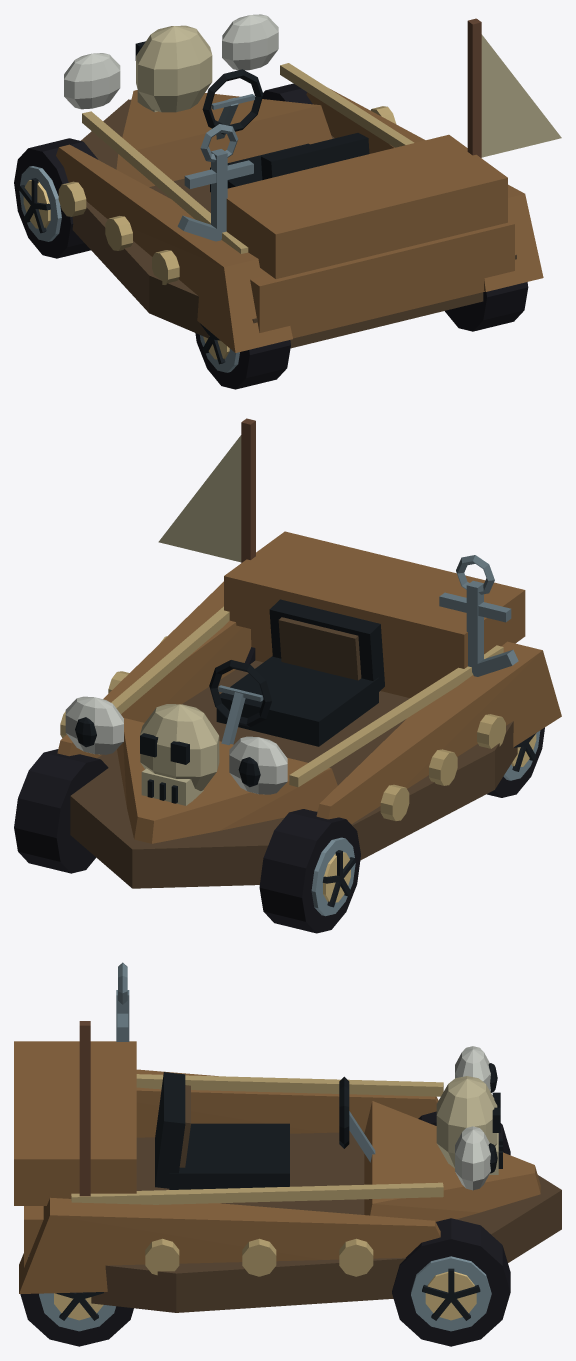
File: kart.glb
3 renders of one model, top to bottom at view 1: azimuth 30°, elevation 25°; view 2: azimuth 150°, elevation 25°; view 3: azimuth 270°, elevation 25°, orthographic. The views are drawn at different scales.
Visible parts, largest first — view 1: identity-ship-ship-pointed-bow-and-raised-stern, identity-ship-motif-sail, identity-ship-motif-skull, wheel-front-left, identity-ship-motif-eyes, identity-ship-driver-cockpit, wheel-rear-left, identity-ship-motif-anchor, wheel-rear-right, wheel-front-right; view 2: identity-ship-ship-pointed-bow-and-raised-stern, identity-ship-driver-cockpit, wheel-front-left, identity-ship-motif-sail, wheel-front-right, identity-ship-motif-skull, identity-ship-motif-eyes, identity-ship-motif-anchor, wheel-rear-left; view 3: identity-ship-ship-pointed-bow-and-raised-stern, identity-ship-driver-cockpit, wheel-front-right, wheel-rear-right, identity-ship-motif-skull, identity-ship-motif-eyes, identity-ship-motif-sail, identity-ship-motif-anchor.
Boxes of the visible parts, left/top/right/bottom form: identity-ship-ship-pointed-bow-and-raised-stern: left=56, top=63, right=543, bottom=352; identity-ship-motif-sail: left=467, top=18, right=561, bottom=157; identity-ship-motif-skull: left=135, top=25, right=212, bottom=112; wheel-front-left: left=14, top=138, right=97, bottom=258; identity-ship-motif-eyes: left=64, top=14, right=278, bottom=109; identity-ship-driver-cockpit: left=202, top=69, right=369, bottom=192; wheel-rear-left: left=195, top=323, right=290, bottom=389; identity-ship-motif-anchor: left=177, top=124, right=253, bottom=241; wheel-rear-right: left=445, top=282, right=528, bottom=331; wheel-front-right: left=262, top=83, right=312, bottom=104; identity-ship-ship-pointed-bow-and-raised-stern: left=57, top=531, right=561, bottom=888; identity-ship-driver-cockpit: left=209, top=599, right=384, bottom=746; wheel-front-left: left=259, top=809, right=360, bottom=933; identity-ship-motif-sail: left=158, top=418, right=255, bottom=562; wheel-front-right: left=14, top=749, right=108, bottom=873; identity-ship-motif-skull: left=140, top=704, right=219, bottom=805; identity-ship-motif-eyes: left=65, top=696, right=287, bottom=794; identity-ship-motif-anchor: left=439, top=555, right=518, bottom=676; wheel-rear-left: left=487, top=727, right=544, bottom=797; identity-ship-ship-pointed-bow-and-raised-stern: left=14, top=1041, right=561, bottom=1312; identity-ship-driver-cockpit: left=155, top=1072, right=375, bottom=1189; wheel-front-right: left=392, top=1218, right=510, bottom=1346; wheel-rear-right: left=20, top=1292, right=133, bottom=1346; identity-ship-motif-skull: left=436, top=1076, right=502, bottom=1174; identity-ship-motif-eyes: left=455, top=1046, right=497, bottom=1190; identity-ship-motif-sail: left=79, top=1021, right=90, bottom=1196; identity-ship-motif-anchor: left=116, top=962, right=129, bottom=1041.
Size of the model in its own units: 2.24 by 1.74 by 2.77.
